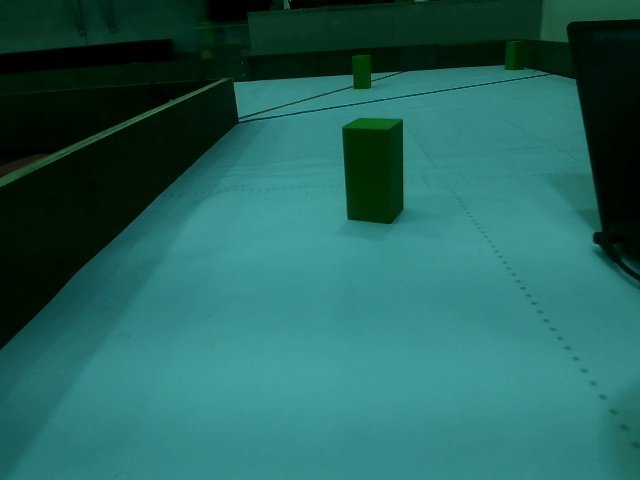green: (346, 116, 402, 223), (353, 56, 370, 87)
